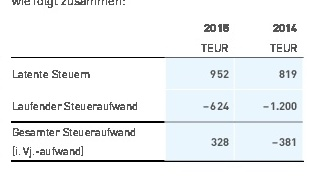table: (0, 0, 319, 182)
